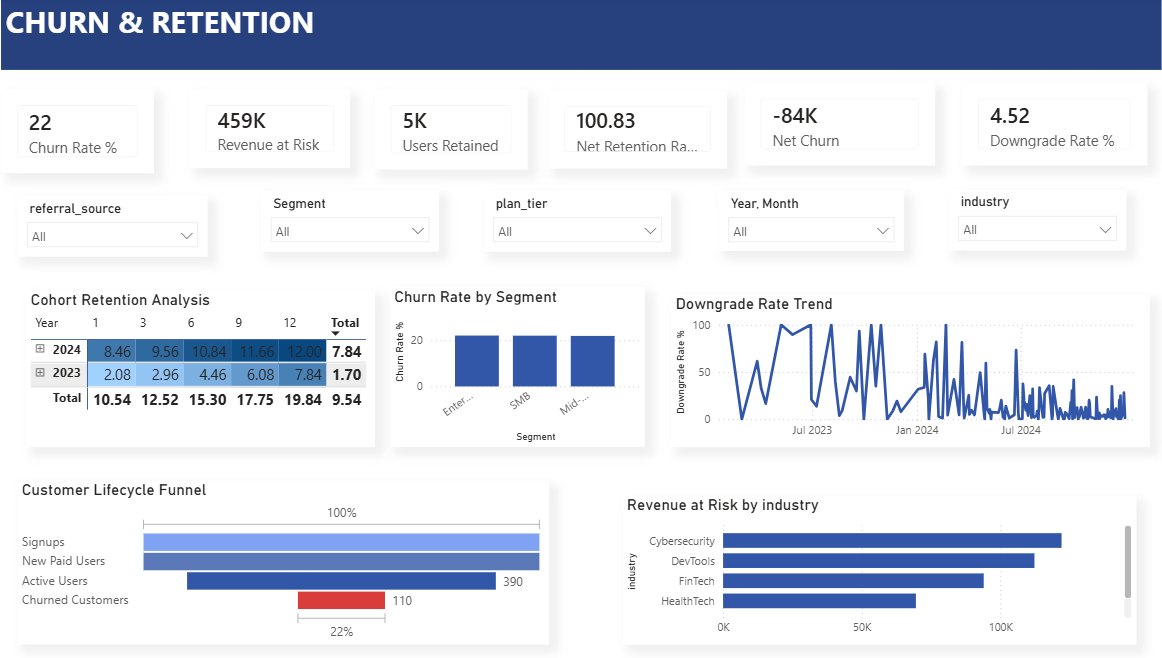

What the dashboard file says about the page in this screenshot:
{"tool":"powerbi","page":{"name":"Page 2","canvas":[1280,720],"ordinal":1},"visuals":[{"type":"cardVisual","fields":{"Data":["subscriptions.Churn Rate %"]},"box":[12.3,100.8,166.2,91.3],"z":0},{"type":"cardVisual","fields":{"Data":["subscriptions.Revenue at Risk"]},"box":[217.9,100.8,174.3,85.8],"z":1000},{"type":"cardVisual","fields":{"Data":["subscriptions.Users Retained"]},"box":[419.5,100.8,166.2,87.2],"z":2000},{"type":"cardVisual","fields":{"Data":["subscriptions.Net Retention Rate %"]},"box":[608.8,102.1,194.8,84.4],"z":3000},{"type":"cardVisual","title":"Negative Churn","fields":{"Data":["subscriptions.Negative Churn"]},"box":[822.6,94,207,89.9],"z":4000},{"type":"cardVisual","fields":{"Data":["subscriptions.Downgrade Rate %"]},"box":[1059.6,94,201.6,89.9],"z":5000},{"type":"slicer","fields":{"Values":["accounts.referral_source"]},"box":[30,216.6,207,66.7],"z":6000},{"type":"slicer","fields":{"Values":["accounts.Segment"]},"box":[295.6,211.1,193.4,66.7],"z":7000},{"type":"slicer","fields":{"Values":["subscriptions.plan_tier"]},"box":[538,211.1,204.3,66.7],"z":8000},{"type":"slicer","fields":{"Values":["subscriptions.start_date.Variation.Date Hierarchy.Year","subscriptions.start_date.Variation.Date Hierarchy.Month"]},"box":[794,211.1,201.6,65.4],"z":9000},{"type":"slicer","fields":{"Values":["accounts.industry"]},"box":[1044.7,209.7,193.4,66.7],"z":10000},{"type":"funnel","title":"Customer Lifecycle Funnel","fields":{"Y":["subscriptions.Signups","subscriptions.New Paid Users","subscriptions.Active Users","subscriptions.Churned Customers"]},"box":[30,527.1,578.8,178.4],"z":11000},{"type":"lineChart","title":"Downgrade Rate Trend","fields":{"Category":["subscriptions.start_date.Variation.Date Hierarchy.Year","subscriptions.start_date.Variation.Date Hierarchy.Quarter","subscriptions.start_date.Variation.Date Hierarchy.Month","subscriptions.start_date.Variation.Date Hierarchy.Day"],"Y":["subscriptions.Downgrade Rate %"]},"box":[742.3,324.2,521.6,166.2],"z":12000},{"type":"pivotTable","title":"Cohort Retention Analysis","fields":{"Rows":["subscriptions.Cohort Month.Variation.Date Hierarchy.Year","subscriptions.Cohort Month.Variation.Date Hierarchy.Month"],"Columns":["Cohort Months.MonthNo"],"Values":["subscriptions.Retention %"]},"box":[39.5,320.1,380,170.2],"z":13000},{"type":"columnChart","title":"Churn Rate by Segment","fields":{"Category":["accounts.Segment"],"Y":["subscriptions.Churn Rate %"]},"box":[435.8,316,277.8,174.3],"z":14000},{"type":"clusteredBarChart","fields":{"Y":["subscriptions.Revenue at Risk"],"Category":["accounts.industry"]},"box":[689.2,543.4,559.8,162.1],"z":15000},{"type":"shape","box":[12.3,0,1263.9,79],"z":16000},{"type":"textbox","box":[12.3,0,1263.9,79],"z":17000}]}

Visuals, with their boxes in screenshot pixels (x1, y1, x2, y2), scaled from the page's 1280x720 canvas onto the 1162x658 screenshot:
cardVisual - subscriptions.Churn Rate %: (11, 92, 162, 176)
cardVisual - subscriptions.Revenue at Risk: (198, 92, 356, 171)
cardVisual - subscriptions.Users Retained: (381, 92, 532, 172)
cardVisual - subscriptions.Net Retention Rate %: (553, 93, 730, 170)
"Negative Churn" cardVisual: (747, 86, 935, 168)
cardVisual - subscriptions.Downgrade Rate %: (962, 86, 1145, 168)
slicer - accounts.referral_source: (27, 198, 215, 259)
slicer - accounts.Segment: (268, 193, 444, 254)
slicer - subscriptions.plan_tier: (488, 193, 674, 254)
slicer - subscriptions.start_date.Variation.Date Hierarchy.Year x subscriptions.start_date.Variation.Date Hierarchy.Month: (721, 193, 904, 253)
slicer - accounts.industry: (948, 192, 1124, 253)
"Customer Lifecycle Funnel" funnel: (27, 482, 553, 645)
"Downgrade Rate Trend" lineChart: (674, 296, 1147, 448)
"Cohort Retention Analysis" pivotTable: (36, 293, 381, 448)
"Churn Rate by Segment" columnChart: (396, 289, 648, 448)
clusteredBarChart - subscriptions.Revenue at Risk x accounts.industry: (626, 497, 1134, 645)
shape: (11, 0, 1159, 72)
textbox: (11, 0, 1159, 72)
